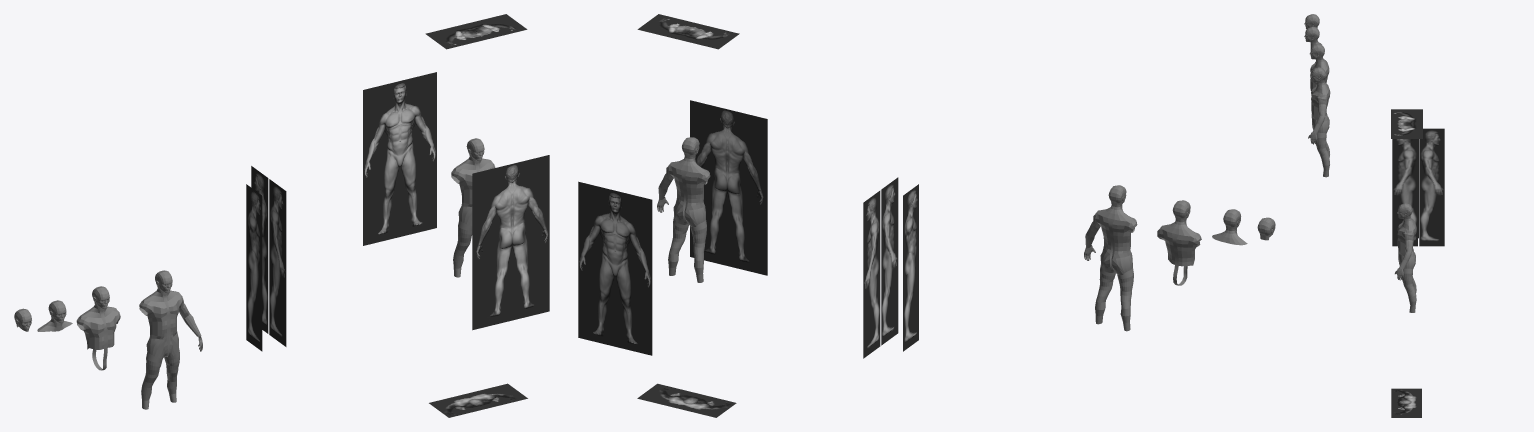
The picture shows the model from 3 angles, left to right: view 1: azimuth 30°, elevation 25°; view 2: azimuth 150°, elevation 25°; view 3: azimuth 270°, elevation 25°; orthographic projection. The views are drawn at different scales.
Parts seen in each view (by area): view 1: Project_MO_Gonzaloup:pCube1 Project_MO_Gonzaloup:polySurface3 Pr, Project_MO_Gonzaloup:polySurface2 Project_MO_Gonzaloup:pCube1, Project_MO_Gonzaloup:pCube1 Project_MO_Gonzaloup:polySurface1 po, pCylinder7, Project_MO_Gonzaloup:pCube1 Project_MO_Gonzaloup:polySurface6 Pr, pCylinder6, polySurface20, polySurface19; view 2: Project_MO_Gonzaloup:pCube1 Project_MO_Gonzaloup:polySurface3 Pr, Project_MO_Gonzaloup:polySurface2 Project_MO_Gonzaloup:pCube1, Project_MO_Gonzaloup:pCube1 Project_MO_Gonzaloup:polySurface1 po, pCylinder7, pCylinder6, Project_MO_Gonzaloup:pCube1 Project_MO_Gonzaloup:polySurface6 Pr, polySurface20, polySurface19; view 3: Project_MO_Gonzaloup:pCube1 Project_MO_Gonzaloup:polySurface1 po, Project_MO_Gonzaloup:pCube1 Project_MO_Gonzaloup:polySurface3 Pr, pCylinder6, pCylinder7, polySurface20, polySurface19.
Part boxes in pixels (left/top/right/bottom): Project_MO_Gonzaloup:pCube1 Project_MO_Gonzaloup:polySurface3 Pr: left=425, top=14, right=549, bottom=417; Project_MO_Gonzaloup:polySurface2 Project_MO_Gonzaloup:pCube1: left=363, top=72, right=436, bottom=245; Project_MO_Gonzaloup:pCube1 Project_MO_Gonzaloup:polySurface1 po: left=251, top=166, right=286, bottom=346; pCylinder7: left=139, top=270, right=202, bottom=409; Project_MO_Gonzaloup:pCube1 Project_MO_Gonzaloup:polySurface6 Pr: left=246, top=184, right=262, bottom=351; pCylinder6: left=451, top=138, right=495, bottom=277; polySurface20: left=76, top=286, right=120, bottom=370; polySurface19: left=37, top=300, right=72, bottom=331; Project_MO_Gonzaloup:pCube1 Project_MO_Gonzaloup:polySurface3 Pr: left=637, top=14, right=767, bottom=417; Project_MO_Gonzaloup:polySurface2 Project_MO_Gonzaloup:pCube1: left=578, top=181, right=652, bottom=355; Project_MO_Gonzaloup:pCube1 Project_MO_Gonzaloup:polySurface1 po: left=863, top=177, right=898, bottom=358; pCylinder7: left=1084, top=185, right=1137, bottom=331; pCylinder6: left=657, top=137, right=710, bottom=282; Project_MO_Gonzaloup:pCube1 Project_MO_Gonzaloup:polySurface6 Pr: left=903, top=184, right=918, bottom=351; polySurface20: left=1157, top=200, right=1201, bottom=285; polySurface19: left=1212, top=209, right=1247, bottom=245; Project_MO_Gonzaloup:pCube1 Project_MO_Gonzaloup:polySurface1 po: left=1392, top=128, right=1444, bottom=246; Project_MO_Gonzaloup:pCube1 Project_MO_Gonzaloup:polySurface3 Pr: left=1391, top=109, right=1422, bottom=417; pCylinder6: left=1394, top=203, right=1416, bottom=312; pCylinder7: left=1308, top=67, right=1330, bottom=177; polySurface20: left=1309, top=44, right=1329, bottom=92; polySurface19: left=1304, top=26, right=1321, bottom=48.
Size of the model in its own units: 415 by 260 by 182.
Materials: 3 (1 with a texture image).
